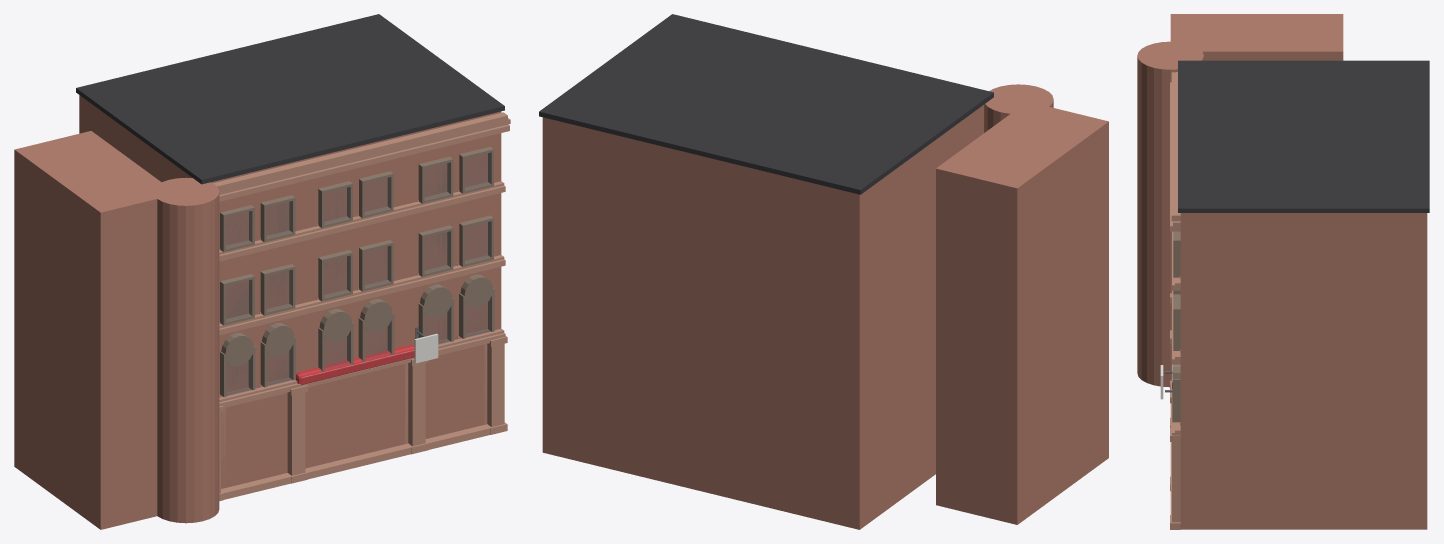
File: real-camera-blockout.glb
3 renders of one model, left to right at view 1: azimuth 30°, elevation 25°; view 2: azimuth 150°, elevation 25°; view 3: azimuth 270°, elevation 25°, orthographic. The views are drawn at different scales.
Parts seen in each view (by area): view 1: RC_MainVolume, RC_CornerReturnWing, RC_RoofCap, RC_CornerMass, RC_Cornice_TopCap, RC_GroundPlinth, RC_Cornice_LowerBand, RC_StringCourse_Floor2_Band, RC_StringCourse_Floor3_Band, RC_RedAwning, RC_Pilaster_01_Shaft, RC_StringCourse_Floor1_Band (+31 smaller); view 2: RC_MainVolume, RC_CornerReturnWing, RC_RoofCap, RC_CornerMass; view 3: RC_MainVolume, RC_RoofCap, RC_CornerMass, RC_CornerReturnWing, RC_Cornice_TopCap, RC_Pilaster_03_Shaft, RC_Floor1Window_21_Reveal_R, RC_Cornice_LowerBand.
Part boxes in pixels (x1,y1,x2,y2): RC_MainVolume: (79, 95, 501, 488); RC_CornerReturnWing: (14, 131, 176, 529); RC_RoofCap: (76, 14, 504, 184); RC_CornerMass: (153, 177, 219, 523); RC_Cornice_TopCap: (213, 112, 507, 191); RC_GroundPlinth: (221, 424, 499, 499); RC_Cornice_LowerBand: (219, 124, 509, 201); RC_StringCourse_Floor2_Band: (219, 259, 505, 335); RC_StringCourse_Floor3_Band: (219, 185, 505, 261); RC_RedAwning: (296, 344, 414, 384); RC_Pilaster_01_Shaft: (287, 392, 305, 475); RC_StringCourse_Floor1_Band: (219, 333, 505, 407); RC_MainVolume: (542, 105, 983, 529); RC_CornerReturnWing: (936, 102, 1108, 524); RC_RoofCap: (539, 14, 993, 194); RC_CornerMass: (984, 84, 1053, 132); RC_MainVolume: (1180, 213, 1427, 529); RC_RoofCap: (1178, 60, 1429, 212); RC_CornerMass: (1137, 41, 1203, 387); RC_CornerReturnWing: (1170, 14, 1343, 60); RC_Cornice_TopCap: (1171, 72, 1180, 221); RC_Pilaster_03_Shaft: (1172, 442, 1180, 522); RC_Floor1Window_21_Reveal_R: (1172, 379, 1180, 422); RC_Cornice_LowerBand: (1170, 82, 1180, 231).
Size of the model in its own units: 19.25 by 14.48 by 11.85.
